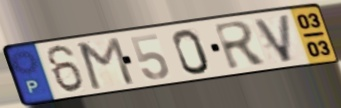0: (169, 27, 213, 76)
5: (127, 32, 171, 82)
6: (45, 43, 86, 95)
M: (76, 35, 137, 92)
R: (211, 19, 270, 72)
V: (251, 12, 295, 65)
